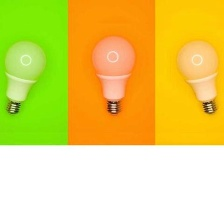light_bulb: (87, 28, 138, 120), (173, 35, 224, 118), (0, 35, 49, 121)
